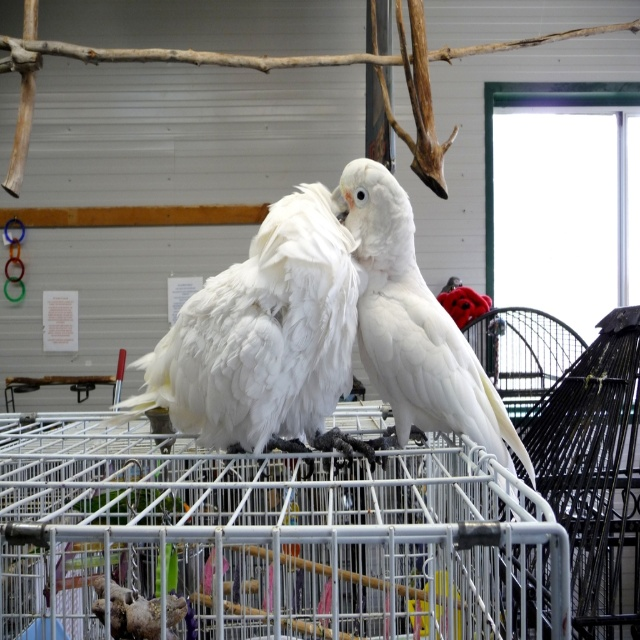Parrot: (105, 179, 376, 479), (331, 157, 536, 522)
